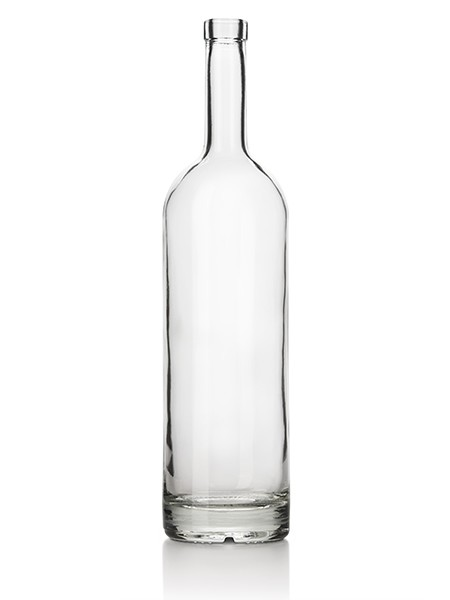glass_bottle: (157, 13, 299, 550)
